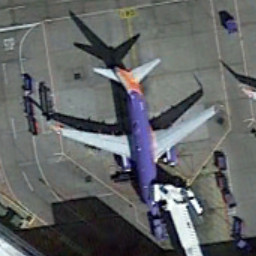Airplane: (34, 50, 230, 217)
